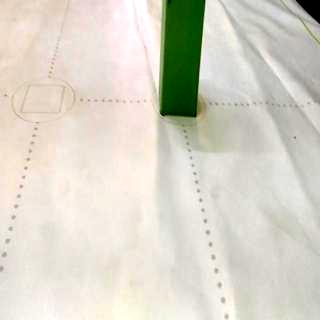greenbox: (158, 0, 206, 118)
